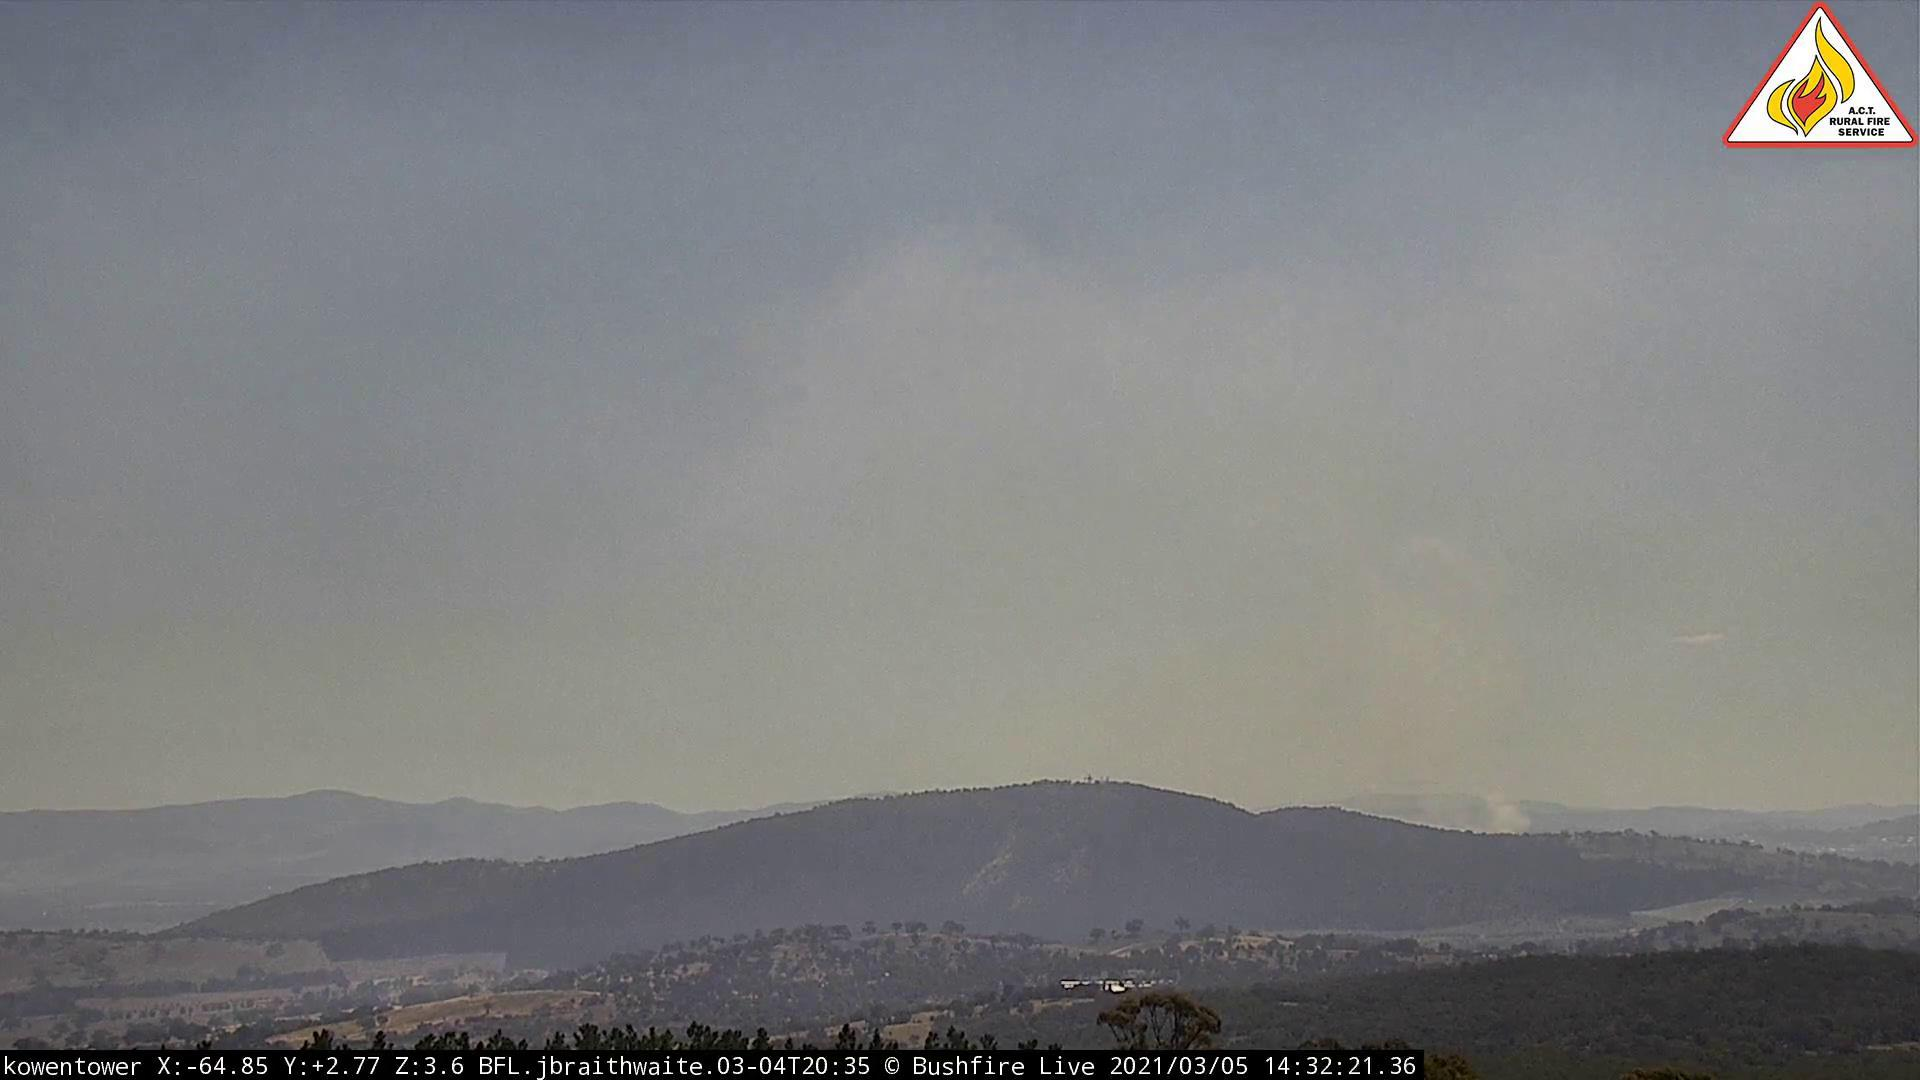Smoke: (1046, 525, 1538, 843)
